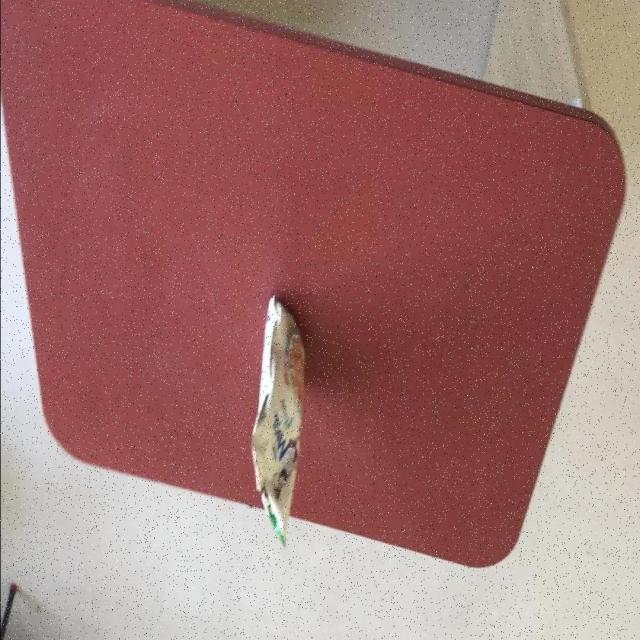CornFlakes: (251, 295, 306, 547)
